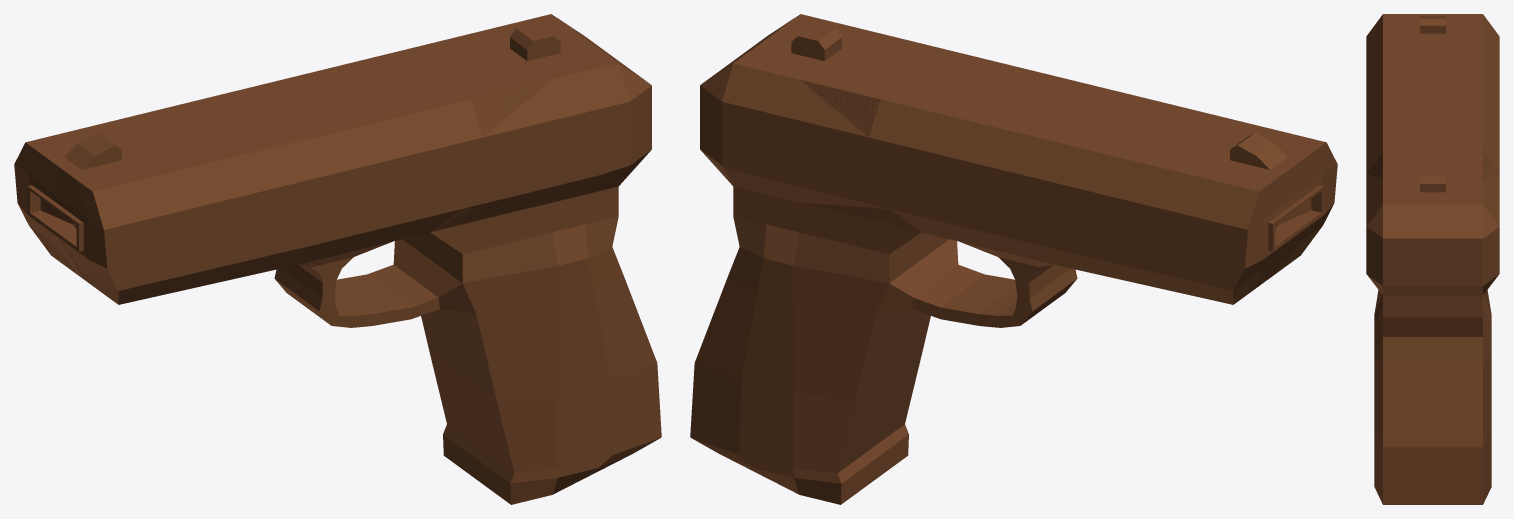
Rendered from goodGun.fbx.
The picture shows the model from 3 angles, left to right: view 1: azimuth 30°, elevation 25°; view 2: azimuth 150°, elevation 25°; view 3: azimuth 270°, elevation 25°; orthographic projection. The views are drawn at different scales.
Parts seen in each view (by area): view 1: Gun; view 2: Gun; view 3: Gun.
Boxes of the visible parts, x1=… form: Gun: x1=14, y1=14, x2=661, y2=504; Gun: x1=690, y1=14, x2=1337, y2=504; Gun: x1=1366, y1=14, x2=1499, y2=504.
Size of the model in its own units: 499 by 360 by 135.
